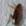cockroach: (12, 4, 22, 25)
